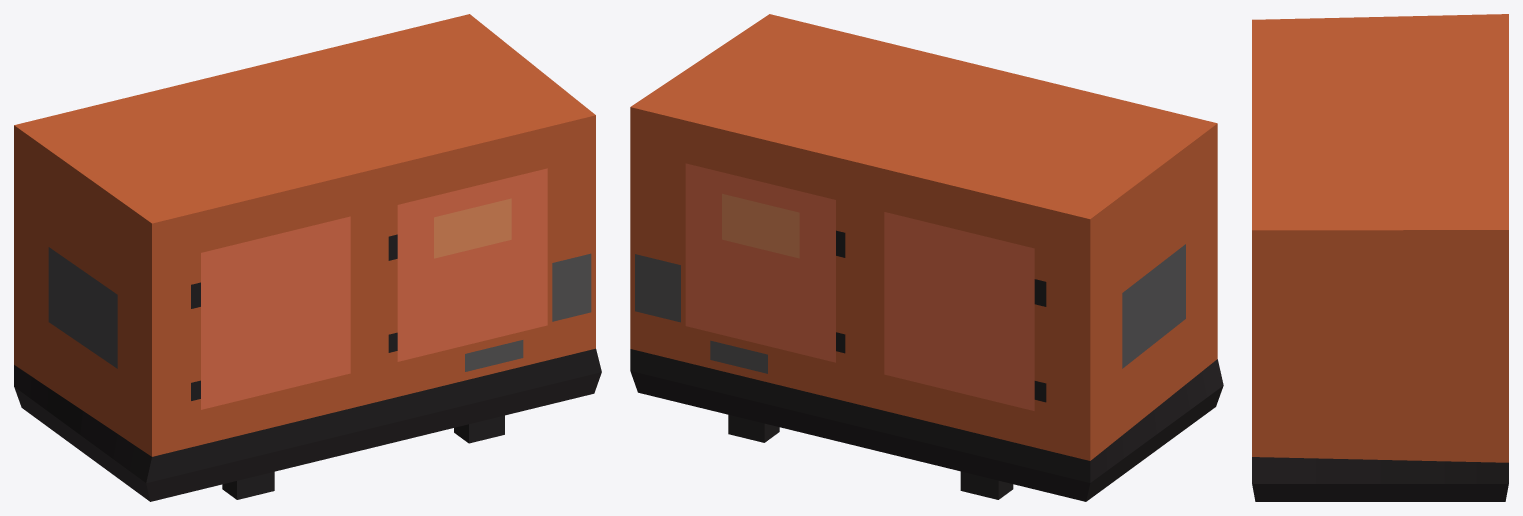
File: Generator.fbx
The picture shows the model from 3 angles, left to right: view 1: azimuth 30°, elevation 25°; view 2: azimuth 150°, elevation 25°; view 3: azimuth 270°, elevation 25°; orthographic projection. The views are drawn at different scales.
Visible parts, largest first — view 1: Cube; view 2: Cube; view 3: Cube.
Part boxes in pixels (x1,y1,x2,y2): Cube: [14, 14, 601, 501]; Cube: [630, 14, 1223, 501]; Cube: [1252, 14, 1508, 501].
Size of the model in its own units: 766 by 486 by 384.
